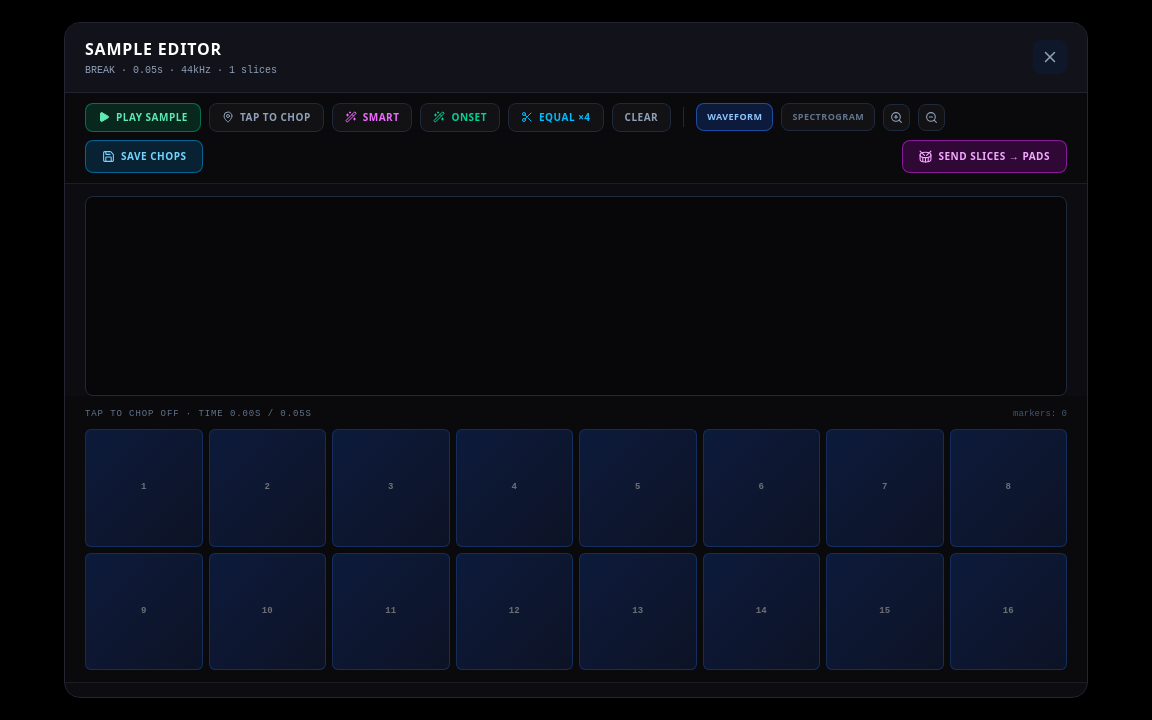
Test: ChopEditor coverage › runs the smart, onset and clear slicing actions
Click the button "Smart" at (372, 117), box [332,103,412,132]
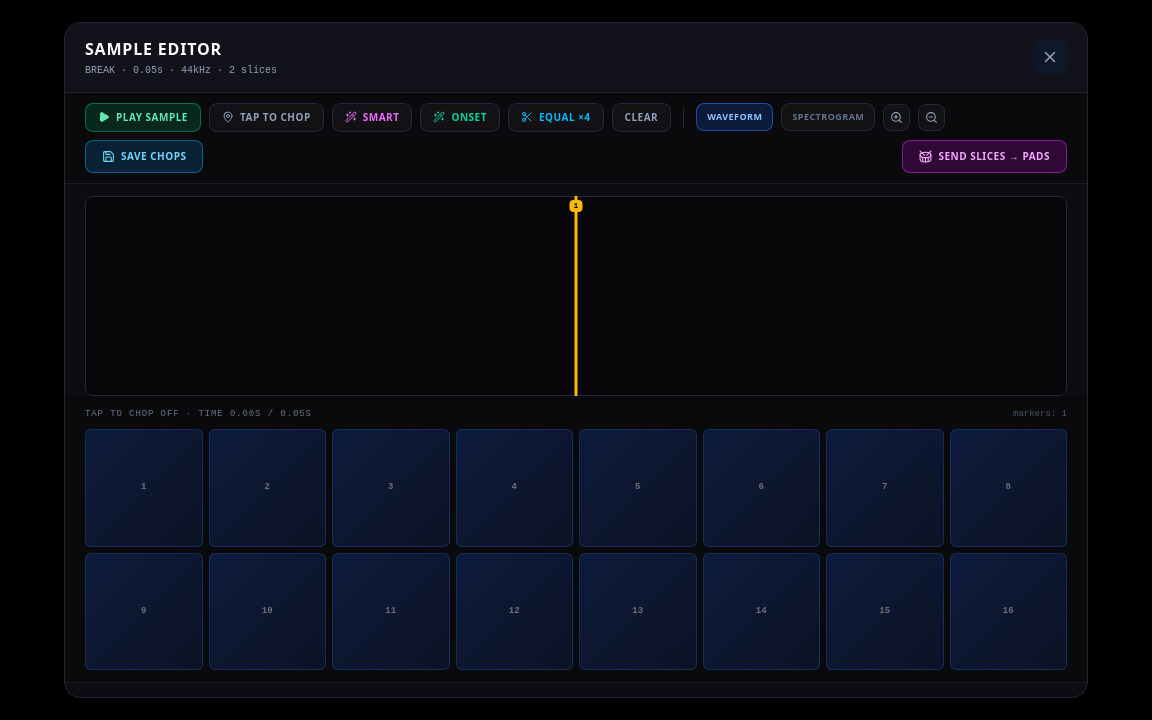
Click the button "Onset" at (460, 117), box [420,103,500,132]
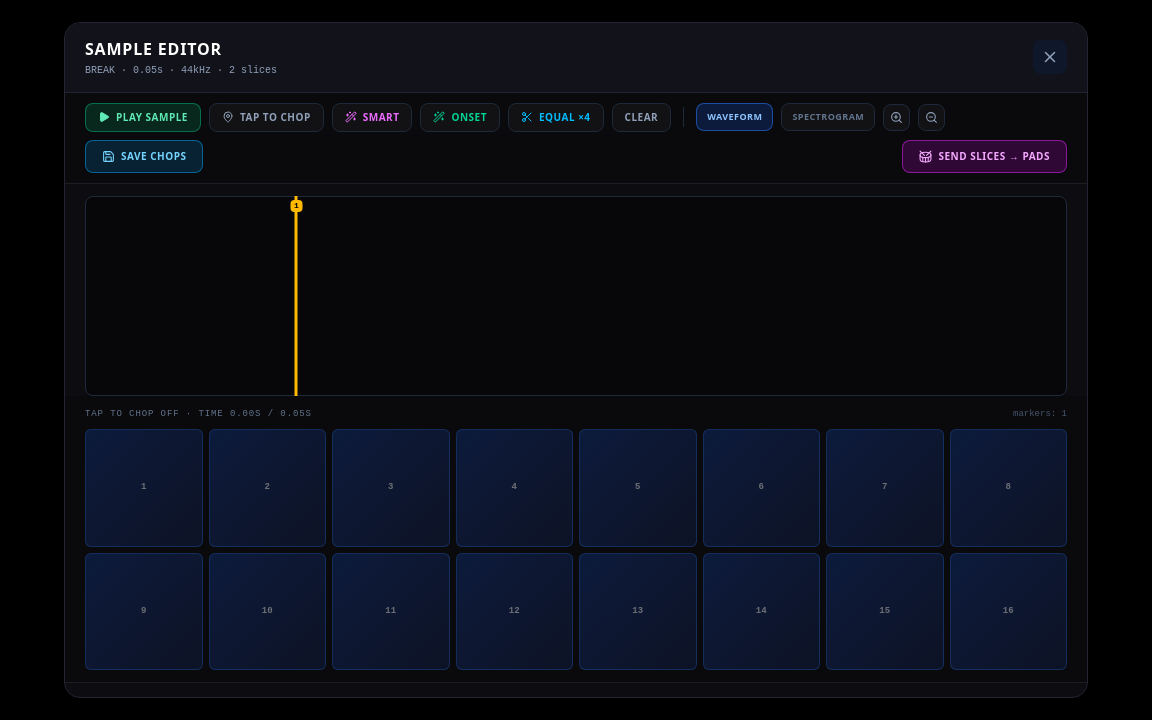
Expected: the text "markers: 1" is shown, [1013,408,1067,421]
Click the button "Clear" at (641, 117), box [612,103,671,132]
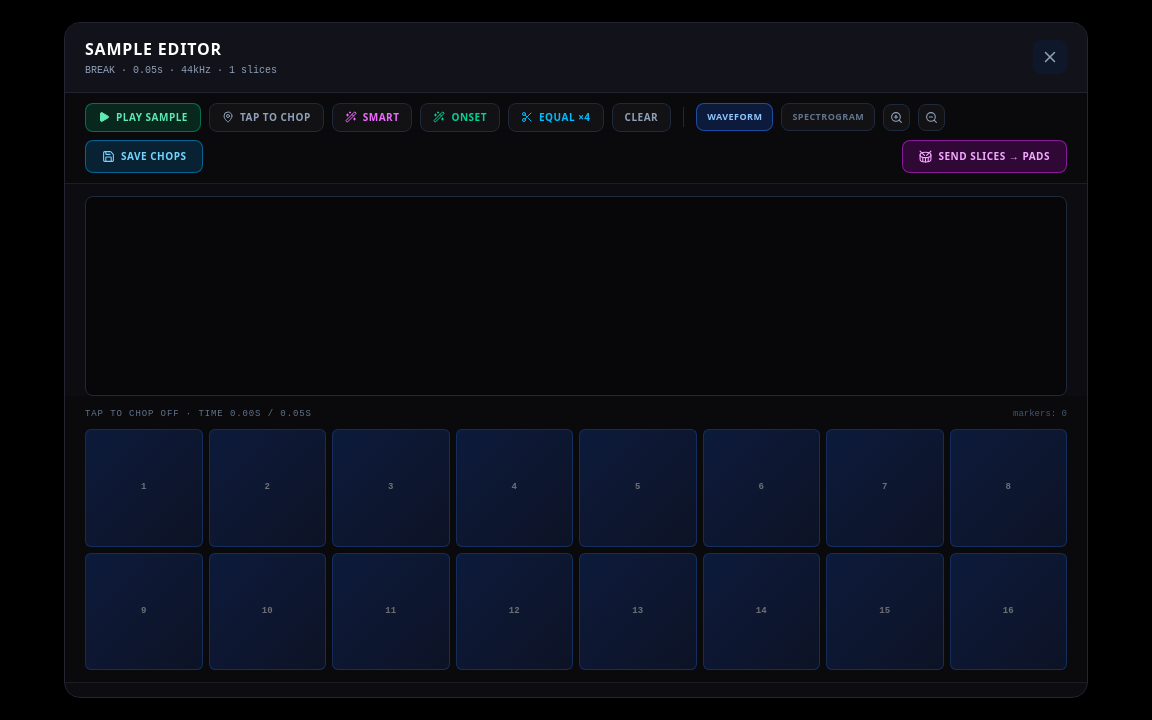
Now the text "BREAK · 0.05s · 44kHz · 1 slices" is shown, box [85,63,277,78]
